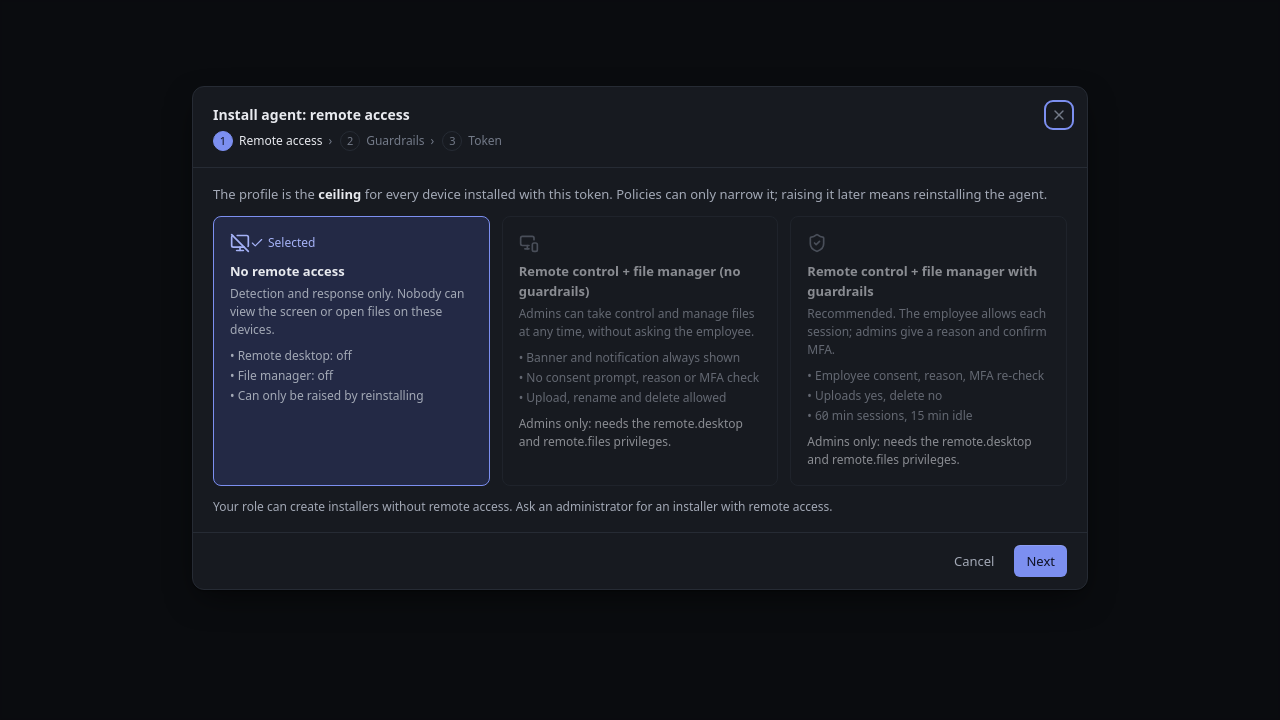
Test: installer wizard › non-admin: only "No remote access", straight to token settings
This screenshot has width=1280, height=720.
expect the radio button labelled "no guardrails" is disabled: met, box [502,216,778,486]
expect the radio button labelled "with guardrails" is disabled: met, box [790,216,1067,486]
What coordinates should you click on to do the following:
click the button "Next"
I would click on:
 (1041, 561)
Its box is [1014,545,1067,577].
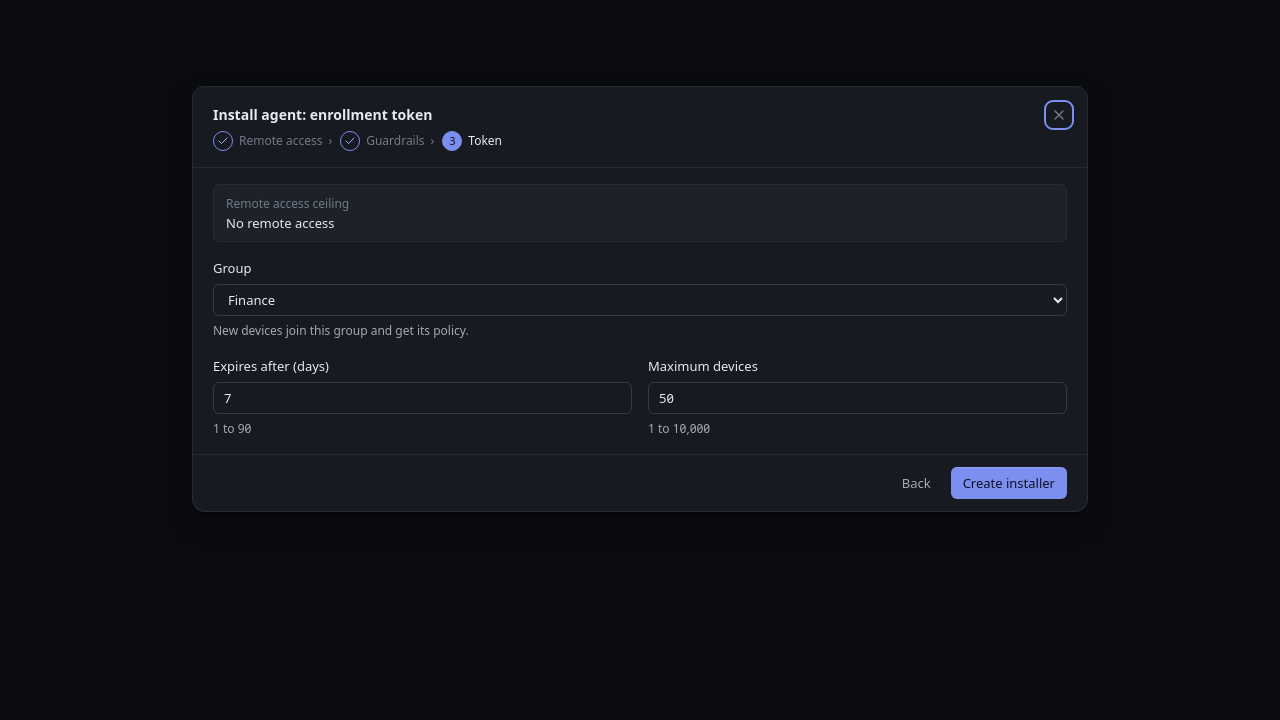
expect the text "No remote access" is shown: met, box [226,214,335,232]
expect the dropdown labelled "Group" is shown: met, box [213,284,1067,316]
